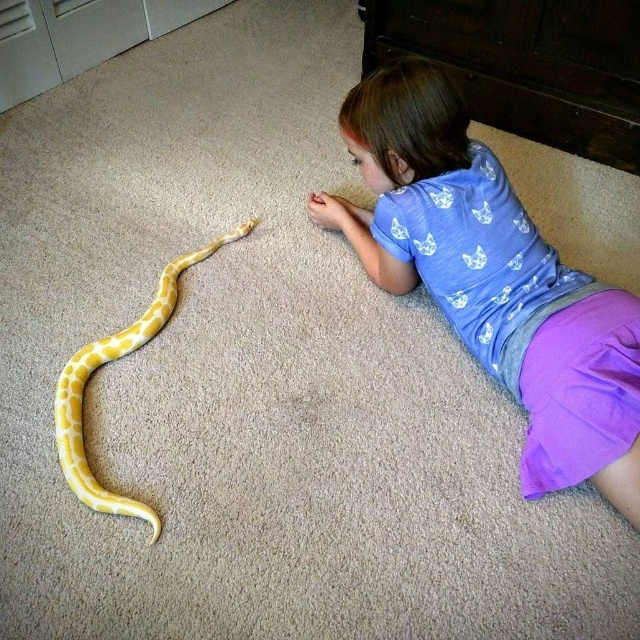Snake: (55, 216, 264, 546)
